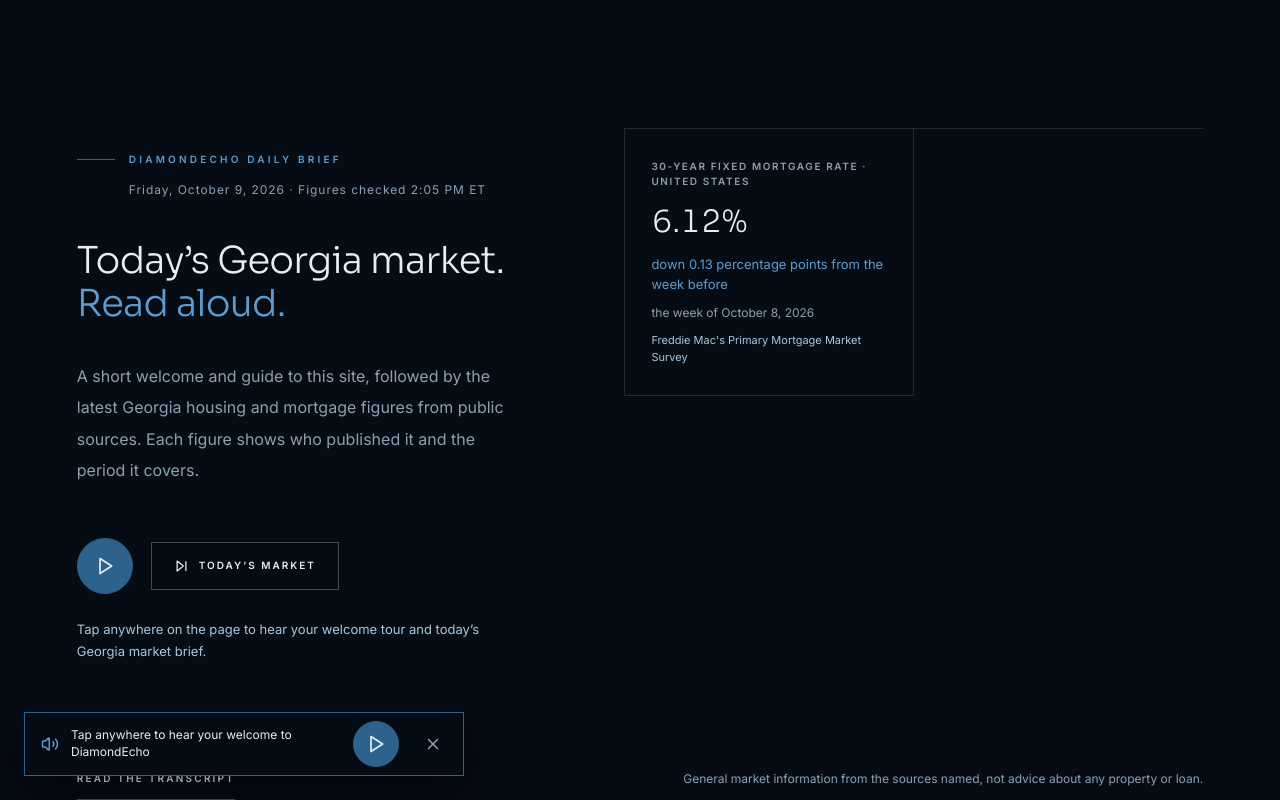
Scenario: closing the bar stops the audio and hides it
This screenshot has width=1280, height=800.
Click the button with class "mf-brief-bar__close" at (433, 744), box [411,722,455,766]
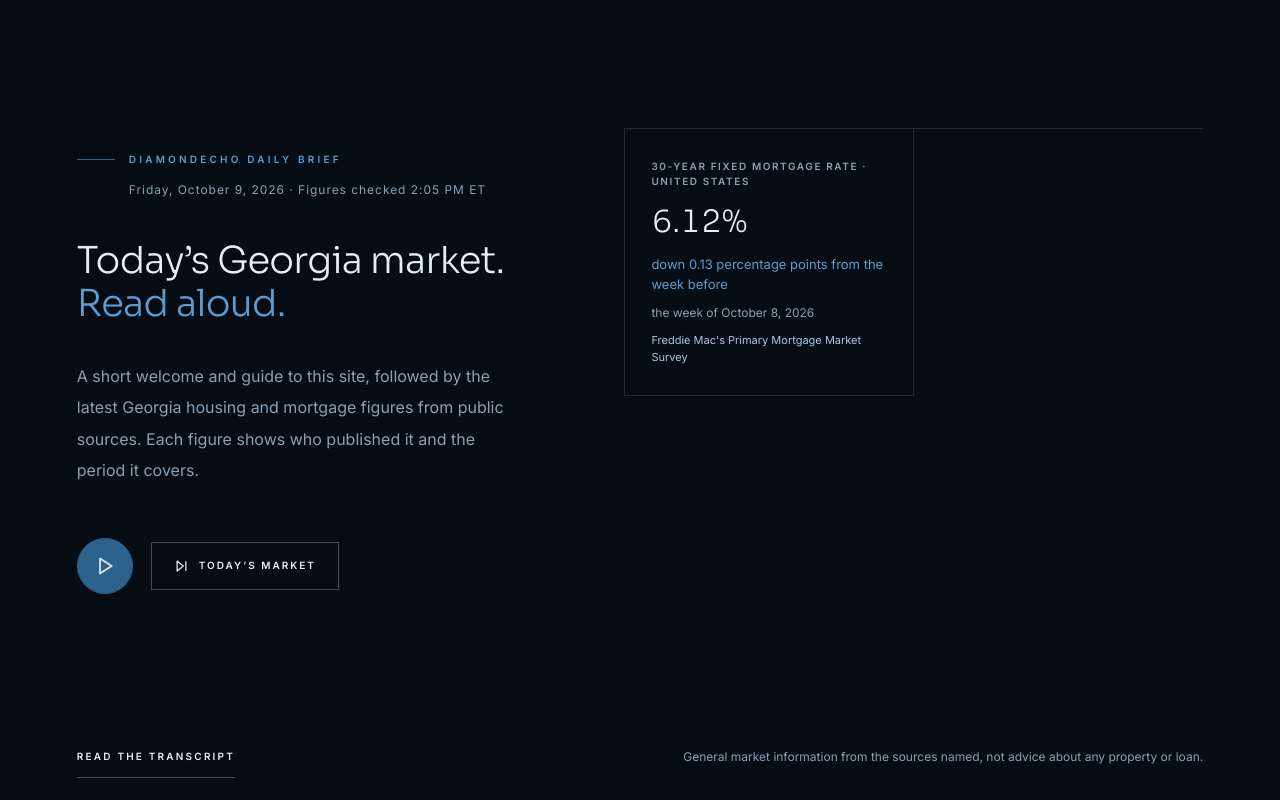
Check: the element with class "mf-brief-bar" is gone
